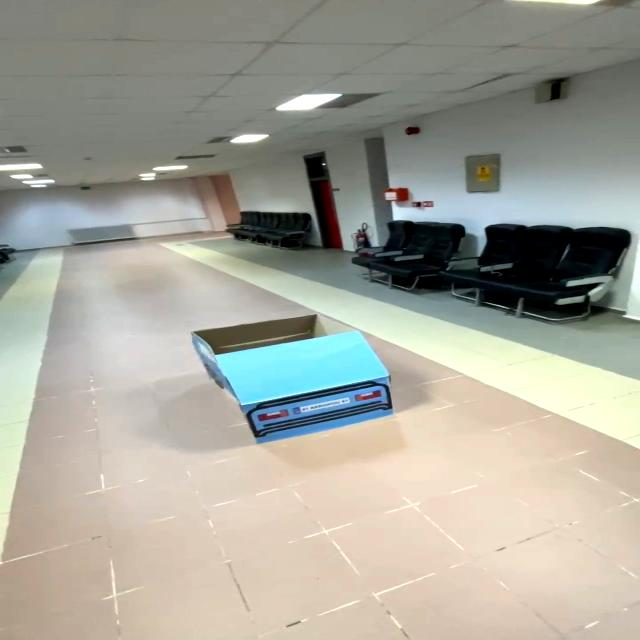blue_car: (169, 302, 431, 459)
